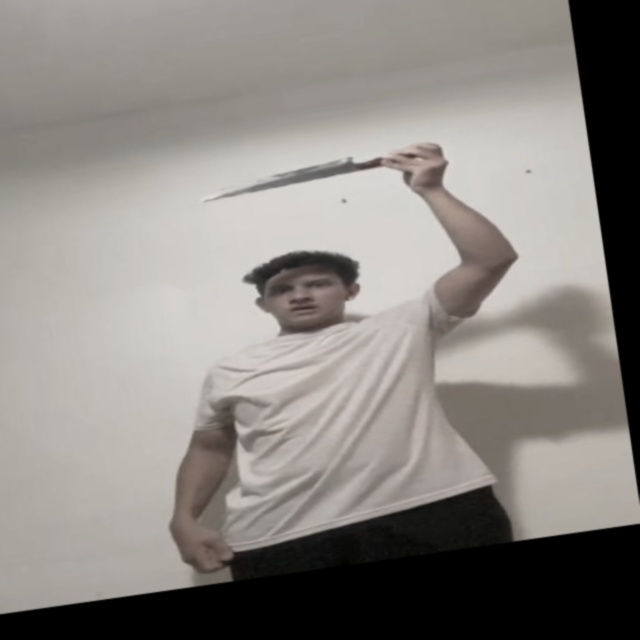Sharp-Object: (194, 156, 356, 205)
